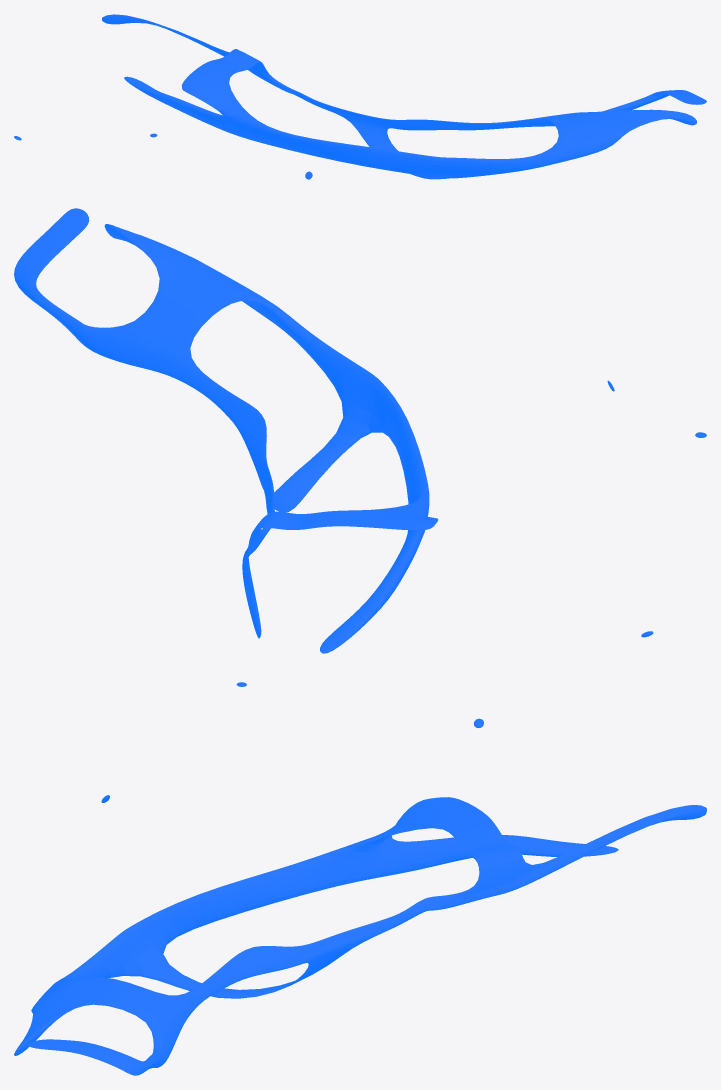
The model's file is Asteroid Ore Mesh.fbx.
3 views of the same model, one above another, from view 1: azimuth 30°, elevation 25°; view 2: azimuth 150°, elevation 25°; view 3: azimuth 270°, elevation 25° (orthographic). The views are drawn at different scales.
Parts seen in each view (by area): view 1: Plane; view 2: Plane; view 3: Plane.
Part boxes in pixels (box(x1,y1,x2,y2)): Plane: box(14, 14, 706, 179); Plane: box(14, 208, 706, 653); Plane: box(14, 682, 706, 1075).
Size of the model in its own units: 14180 by 2501 by 11397.
